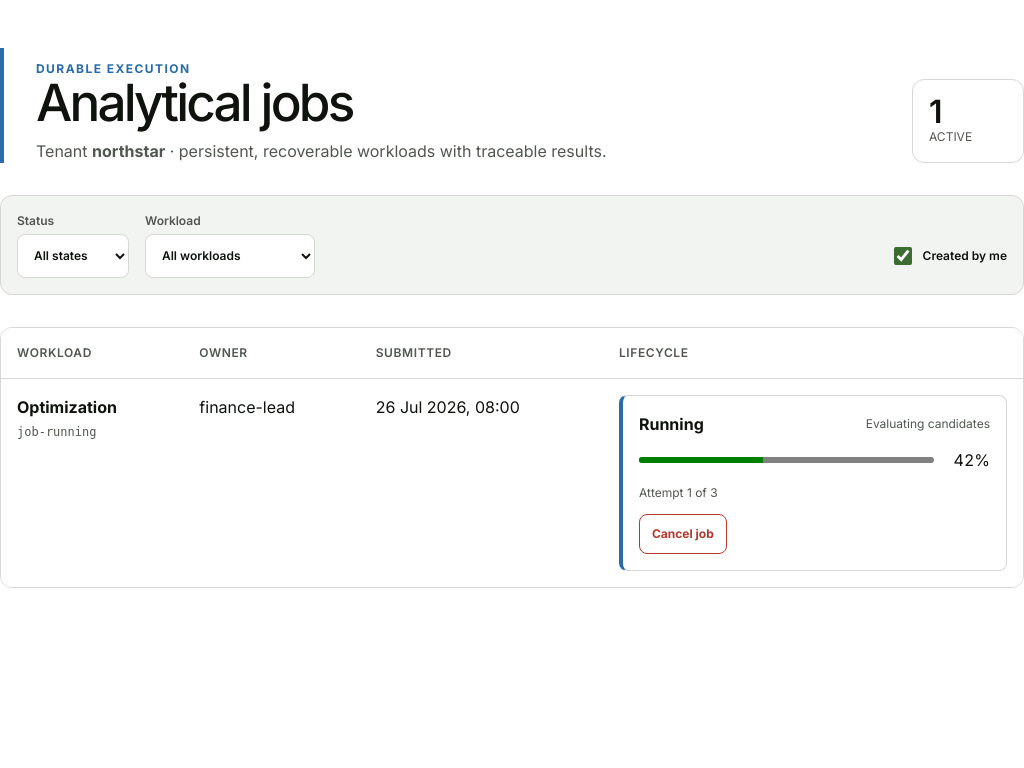
Test: JobsPage › lets an analyst cancel an active job and refreshes its row
This screenshot has width=1024, height=768.
Click the button "Cancel job".
click(683, 534)  # box 639,514 -> 727,554
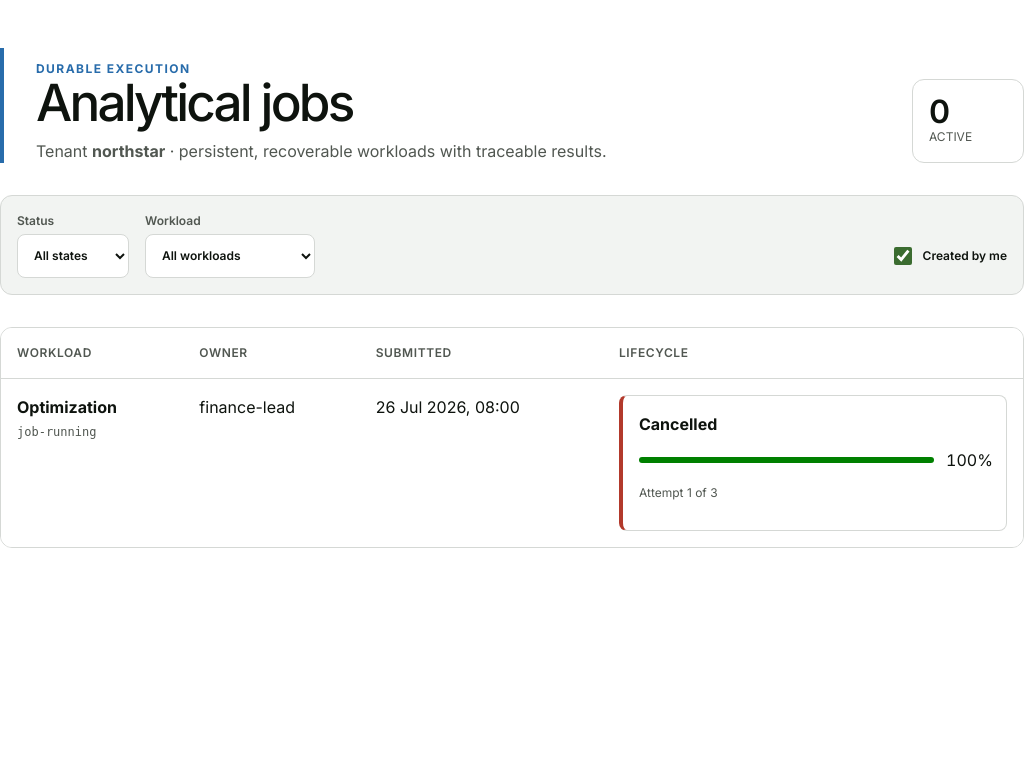
Result: the text "Cancelled" is shown at 639,412 -> 717,436
